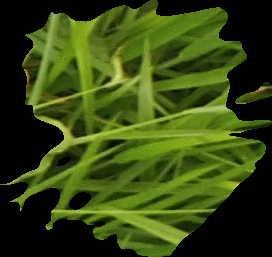grass: (1, 1, 270, 254)
